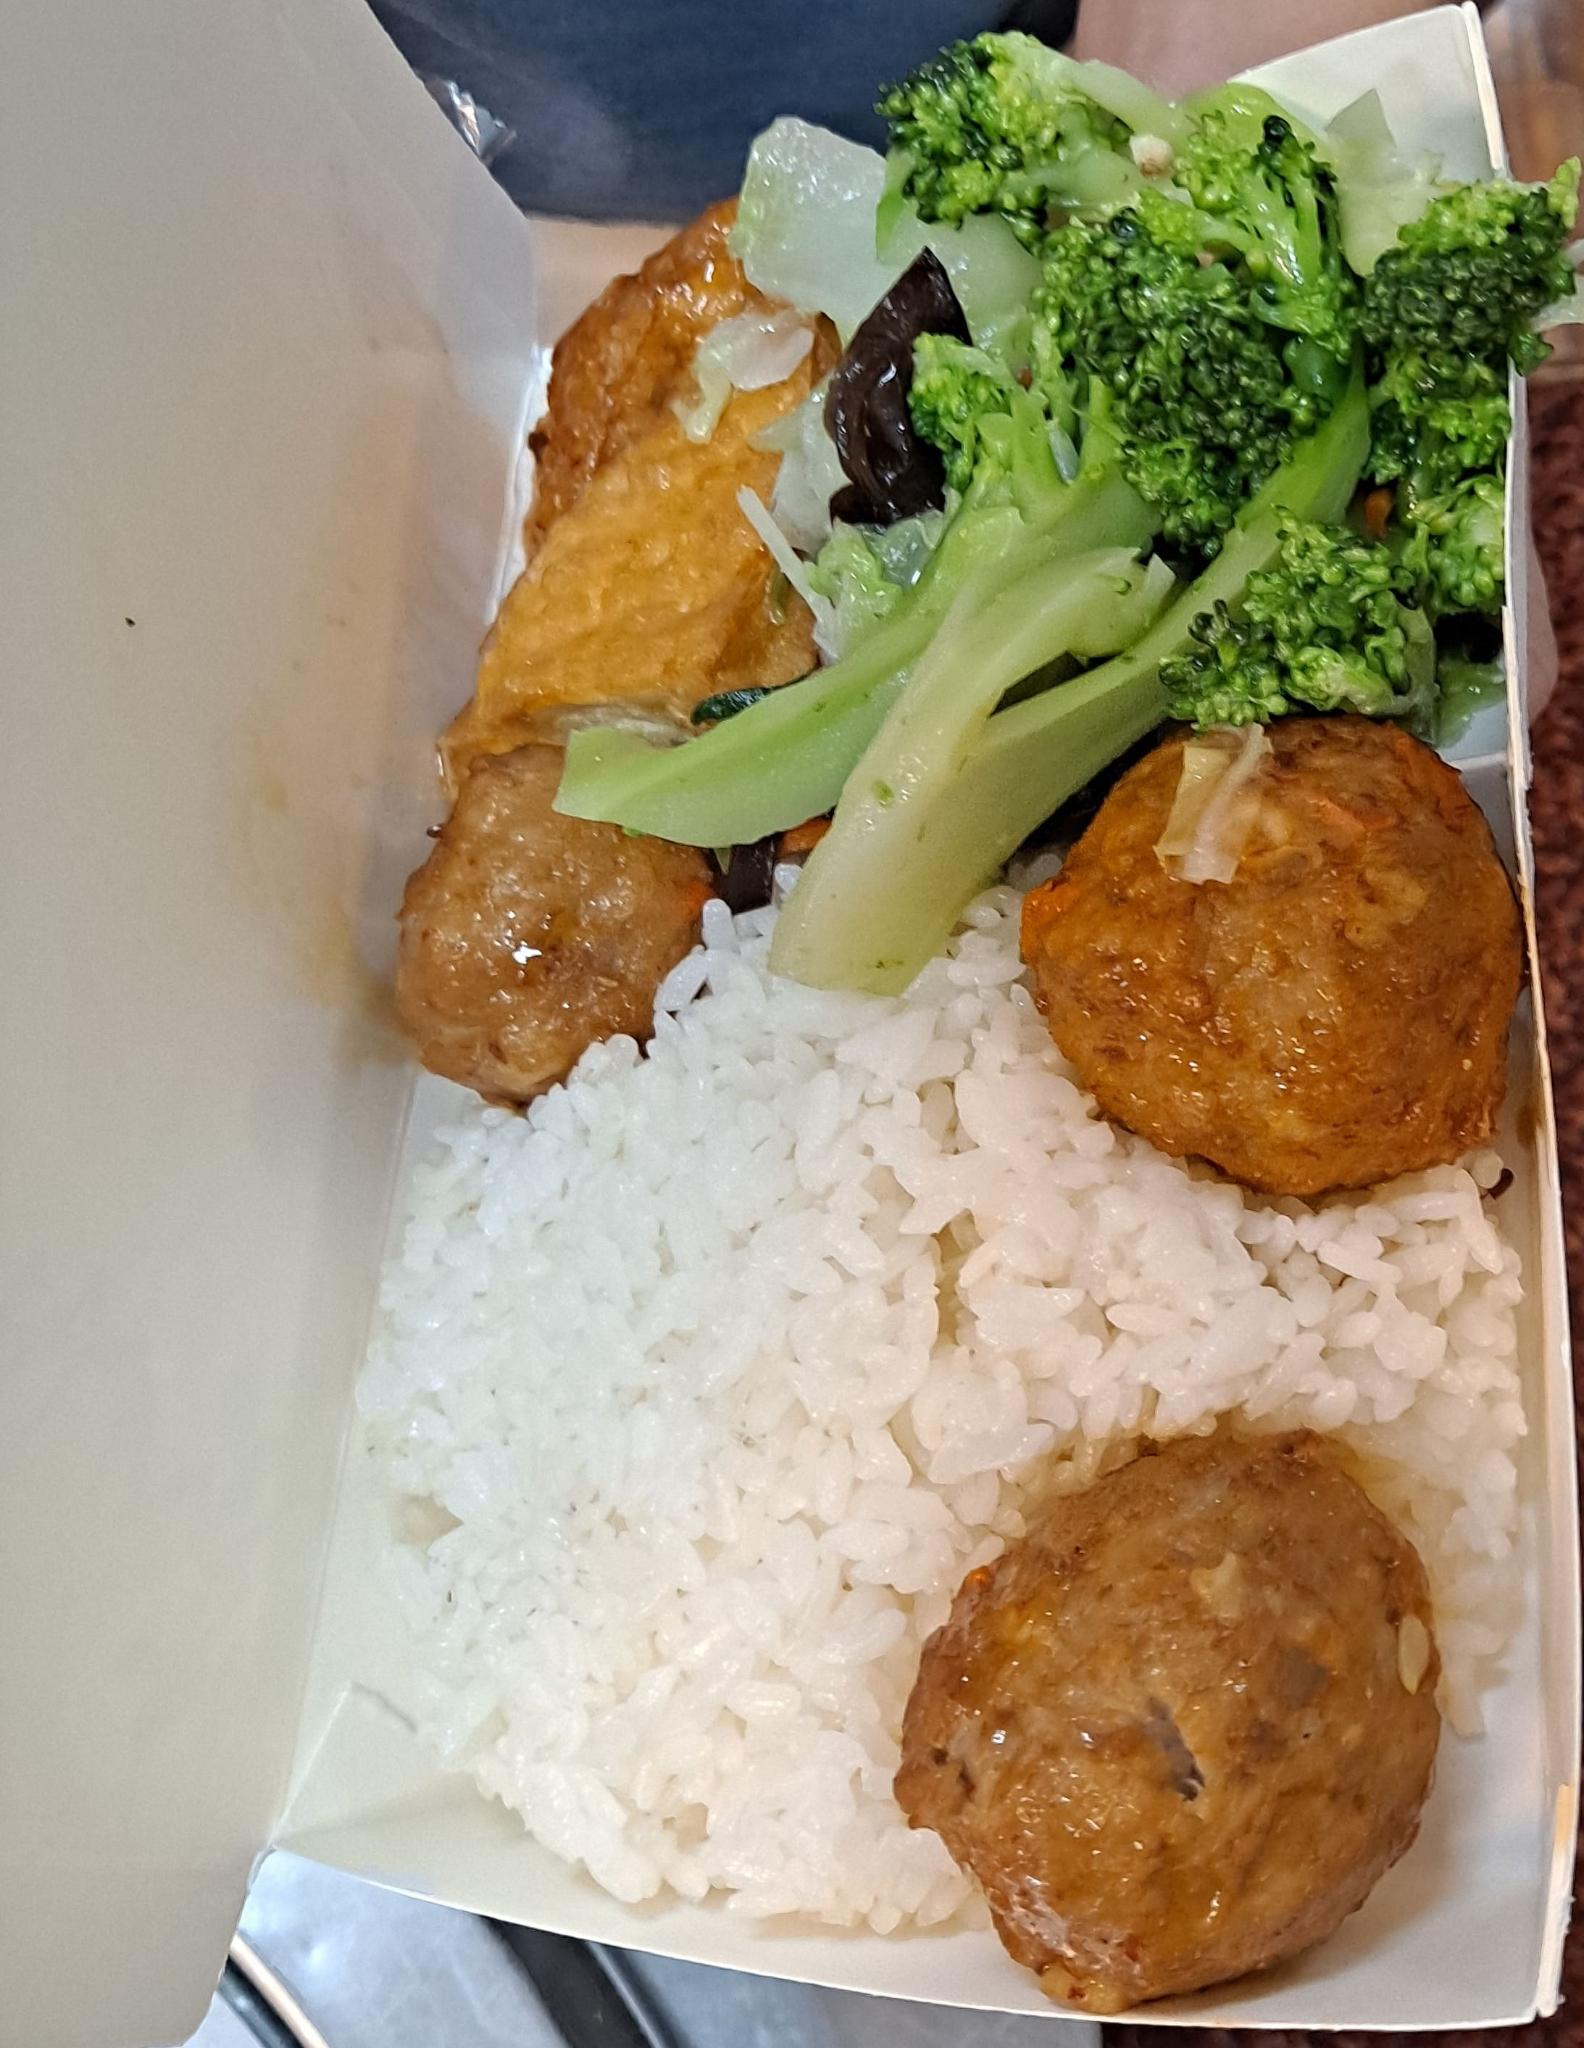big grilled chicken leg: (219, 0, 1584, 2048)
big herbal chicken leg: (367, 878, 1518, 1918)
braised fish fillet: (587, 12, 1541, 982), (465, 185, 859, 740), (708, 103, 1047, 648)
braised pork: (374, 738, 1521, 2008)
